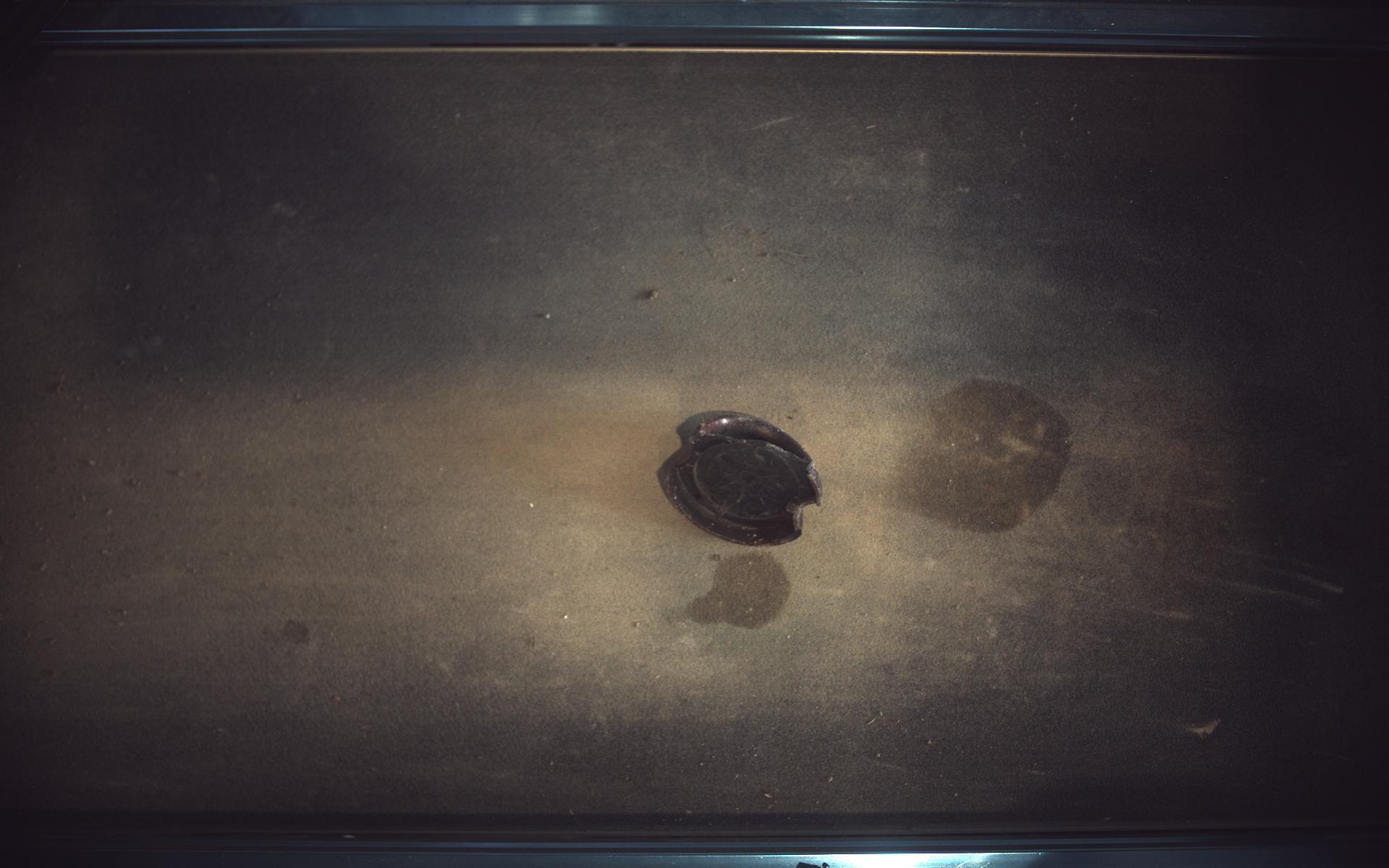general_w: (658, 412, 823, 546)
